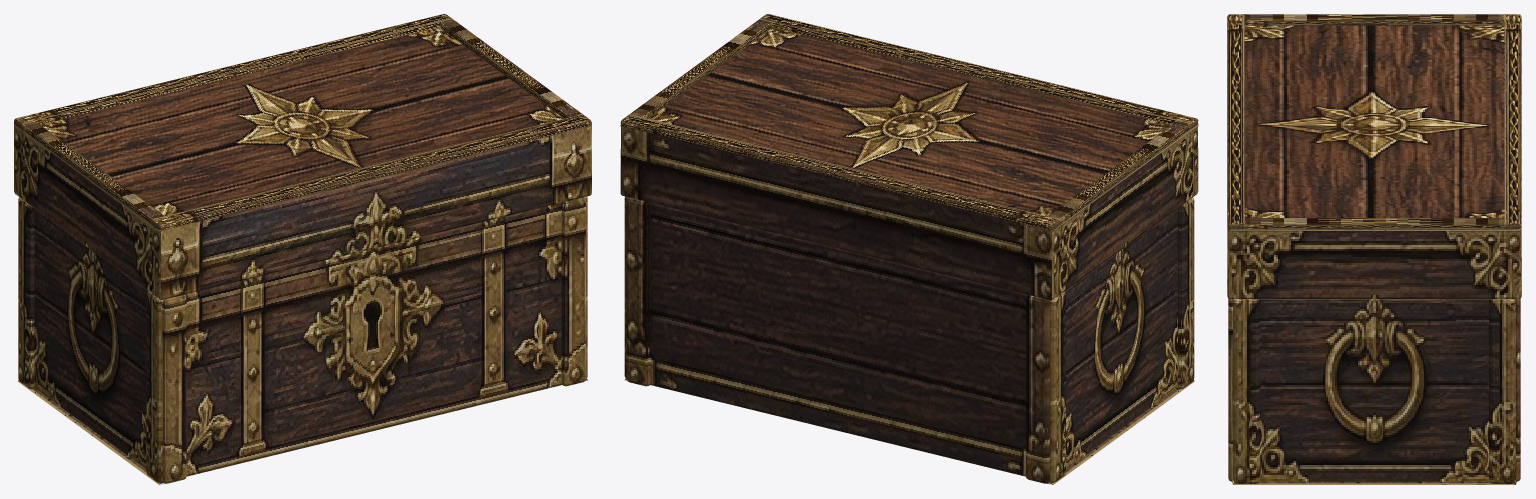
Rendered from chest_gilded_walnut.glb.
3 views of the same model, side by side, from view 1: azimuth 30°, elevation 25°; view 2: azimuth 150°, elevation 25°; view 3: azimuth 270°, elevation 25° (orthographic).
Parts seen in each view (by area): view 1: lid, body; view 2: lid, body; view 3: lid, body.
Boxes of the visible parts, x1,y1,x2,y2 form: lid: (14,14,591,299); body: (17,196,587,484); lid: (620,14,1198,299); body: (624,196,1194,484); lid: (1227,14,1521,298); body: (1228,298,1520,484).
Bounding box in the file's own units: 1.03 × 0.592 × 0.604.
1 material, 1 textured.
